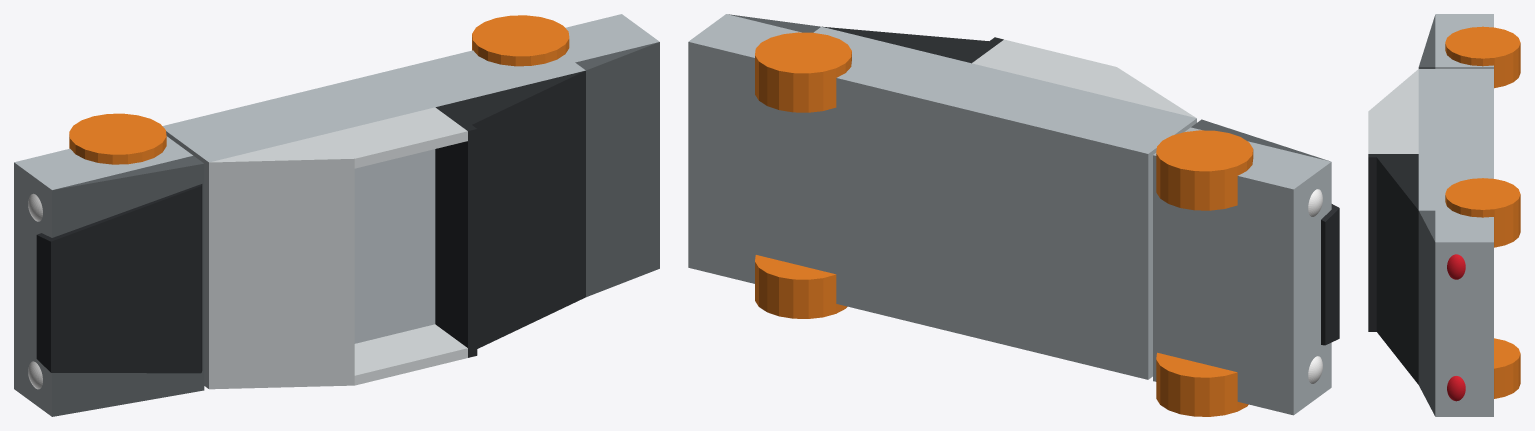
Rendered from tinker.obj.
3 views of the same model, side by side, from view 1: azimuth 30°, elevation 25°; view 2: azimuth 150°, elevation 25°; view 3: azimuth 270°, elevation 25° (orthographic). The views are drawn at different scales.
Visible parts, largest first — view 1: group_0_2829873, group_0_12568524, group_0_14541540, group_0_6383466, group_0_16089887, group_0_16448250; view 2: group_0_12568524, group_0_16089887, group_0_14541540, group_0_2829873, group_0_6383466, group_0_16448250; view 3: group_0_12568524, group_0_2829873, group_0_16089887, group_0_6383466, group_0_14541540, group_0_15277357.
Boxes of the visible parts, x1,y1,x2,y2 form: group_0_2829873: [36, 70, 585, 373]; group_0_12568524: [14, 14, 659, 416]; group_0_14541540: [209, 107, 467, 389]; group_0_6383466: [52, 42, 659, 416]; group_0_16089887: [69, 15, 569, 164]; group_0_16448250: [28, 193, 42, 389]; group_0_12568524: [688, 14, 1331, 415]; group_0_16089887: [755, 32, 1253, 416]; group_0_14541540: [972, 39, 1195, 117]; group_0_2829873: [822, 26, 1339, 345]; group_0_6383466: [728, 14, 1329, 161]; group_0_16448250: [1308, 189, 1322, 383]; group_0_12568524: [1418, 14, 1493, 416]; group_0_2829873: [1368, 154, 1418, 384]; group_0_16089887: [1445, 26, 1520, 398]; group_0_6383466: [1418, 15, 1435, 415]; group_0_14541540: [1368, 69, 1418, 153]; group_0_15277357: [1447, 254, 1465, 401].
Bounding box in the file's own units: 65.5 × 25 × 18.16.
